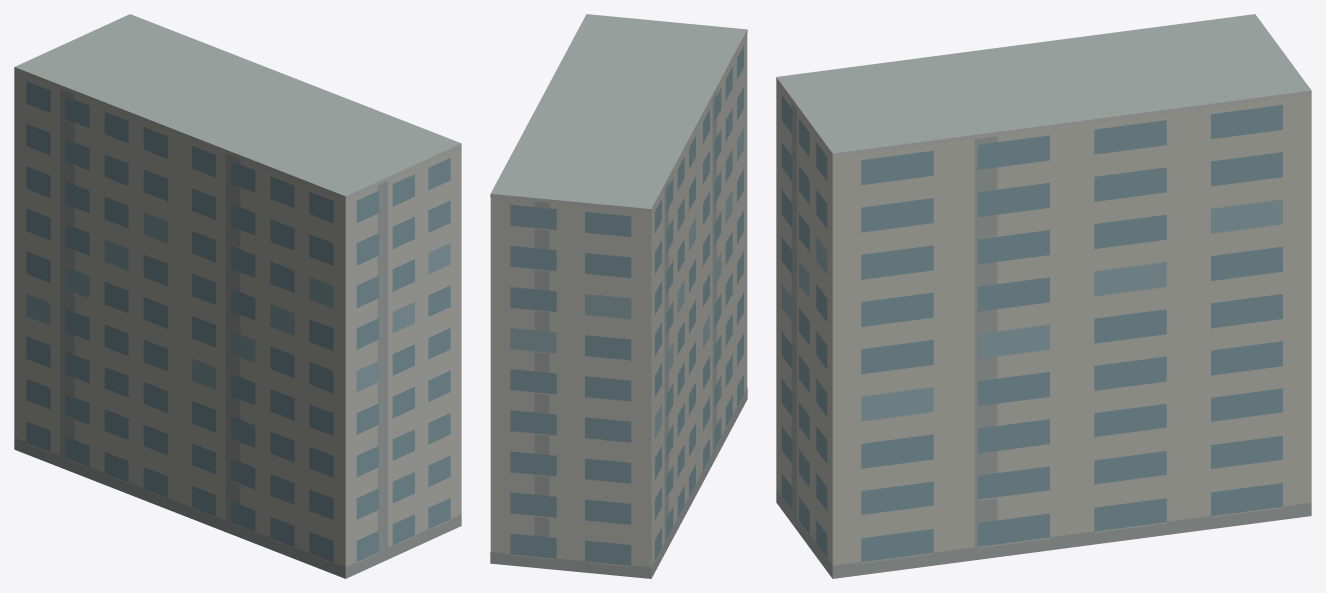
Rendered from residential-44363665-bc18-4ff5-870b-129a71cd5145.glb.
3 renders of one model, left to right at view 1: azimuth 30°, elevation 25°; view 2: azimuth 150°, elevation 25°; view 3: azimuth 270°, elevation 25°, orthographic. The views are drawn at different scales.
Visible parts, largest first — view 1: residential-44363665-bc18-4ff5-870b-129a71cd5145.tmp; view 2: residential-44363665-bc18-4ff5-870b-129a71cd5145.tmp; view 3: residential-44363665-bc18-4ff5-870b-129a71cd5145.tmp.
Boxes of the visible parts, x1,y1,x2,y2 form: residential-44363665-bc18-4ff5-870b-129a71cd5145.tmp: (14, 14, 461, 578); residential-44363665-bc18-4ff5-870b-129a71cd5145.tmp: (490, 14, 747, 578); residential-44363665-bc18-4ff5-870b-129a71cd5145.tmp: (776, 14, 1311, 578).
Bounding box in the file's own units: 16.89 × 24 × 27.38.
